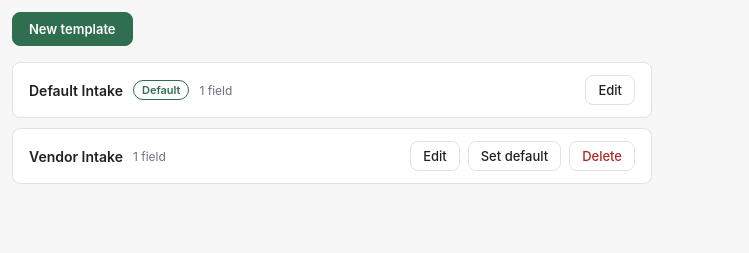
Test: TemplateManager › opens the editor pre-filled when Edit is clicked on an existing template
The image size is (749, 253).
Expected: the text "Default Intake" is shown, [29,82,123,98]
Click the button "Edit" in the row of "Vendor Intake" at (435, 156), box [410,141,460,171]
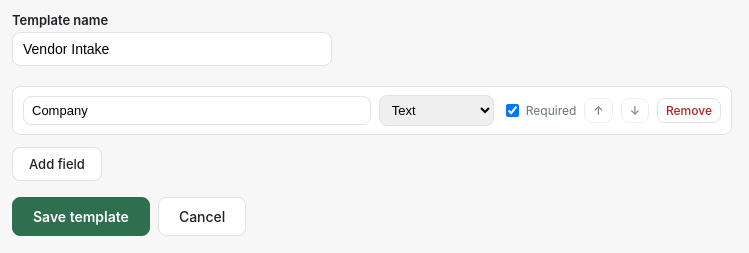
Expected: the field labelled "Template name" holds "Vendor Intake", [12,32,332,66]
